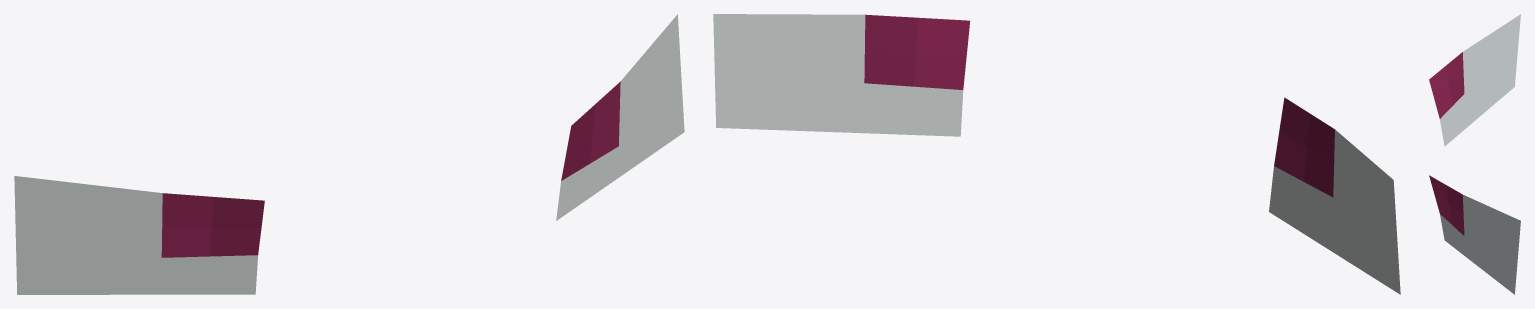
The model's file is yeux_06.fbx.
3 renders of one model, left to right at view 1: azimuth 30°, elevation 25°; view 2: azimuth 150°, elevation 25°; view 3: azimuth 270°, elevation 25°, orthographic. The views are drawn at different scales.
Visible parts, largest first — view 1: Cube.001; view 2: Cube.001; view 3: Cube.001.
Boxes of the visible parts, left/top/right/bottom form: Cube.001: left=14, top=14, right=684, bottom=294; Cube.001: left=713, top=14, right=1400, bottom=294; Cube.001: left=1429, top=14, right=1520, bottom=294.
Size of the model in its own units: 114 by 19.45 by 21.3.
